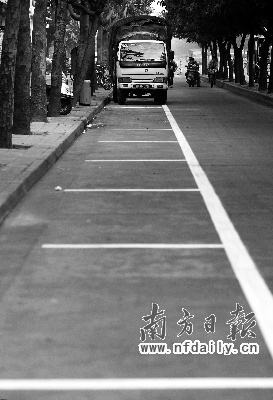slot_nocar: (1, 228, 273, 393), (2, 170, 252, 257), (18, 147, 222, 200), (52, 132, 201, 166)
